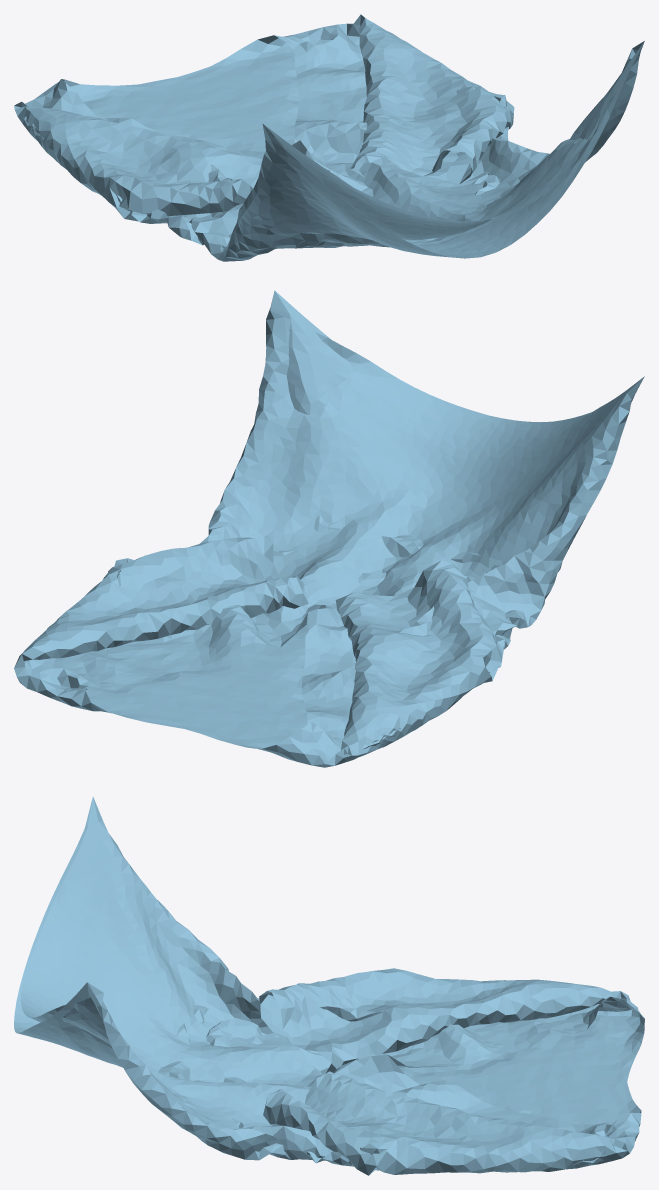
File: frame_04.glb
The picture shows the model from 3 angles, top to bottom: view 1: azimuth 30°, elevation 25°; view 2: azimuth 150°, elevation 25°; view 3: azimuth 270°, elevation 25°; orthographic projection. The views are drawn at different scales.
Parts seen in each view (by area): view 1: frame_04.obj; view 2: frame_04.obj; view 3: frame_04.obj.
Part boxes in pixels (x1,y1,x2,y2): frame_04.obj: (14, 14, 644, 261); frame_04.obj: (14, 290, 644, 767); frame_04.obj: (14, 796, 644, 1175).
Bounding box in the file's own units: 1.2 × 0.6039 × 1.71.
